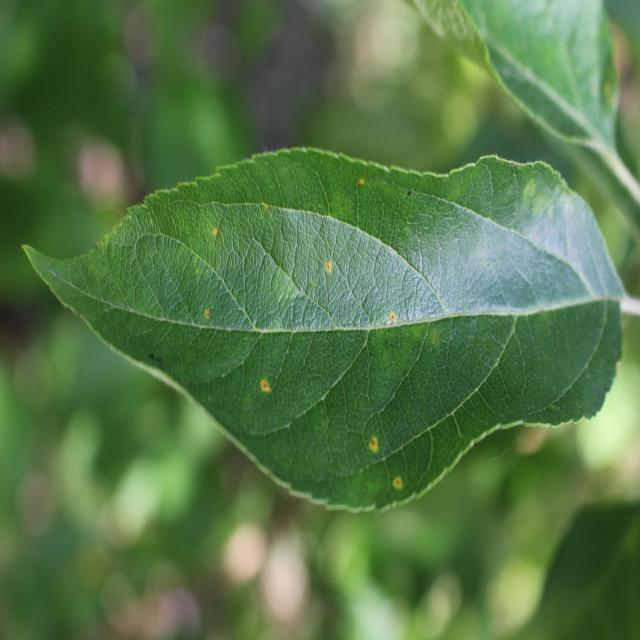Rust: (206, 219, 224, 250), (258, 375, 276, 399), (365, 435, 381, 459), (320, 260, 339, 278), (390, 476, 406, 496), (356, 172, 369, 188), (204, 304, 212, 322), (388, 310, 397, 325)
